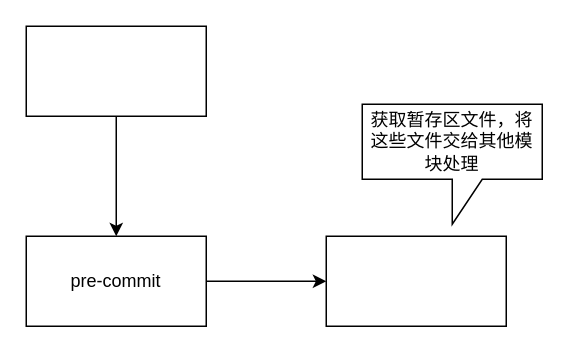
This 569x353 diagram has some shape labels left out. Here are the shapes that lost their labels. From the top down, the box of each, then its label:
(25, 25, 206, 116): 执行提交
(325, 235, 506, 326): lint-stage
